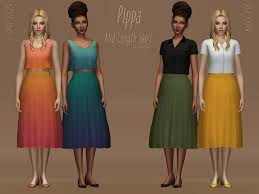C_skirt: (11, 69, 71, 152), (198, 72, 255, 154), (60, 69, 114, 154), (144, 72, 198, 153)
